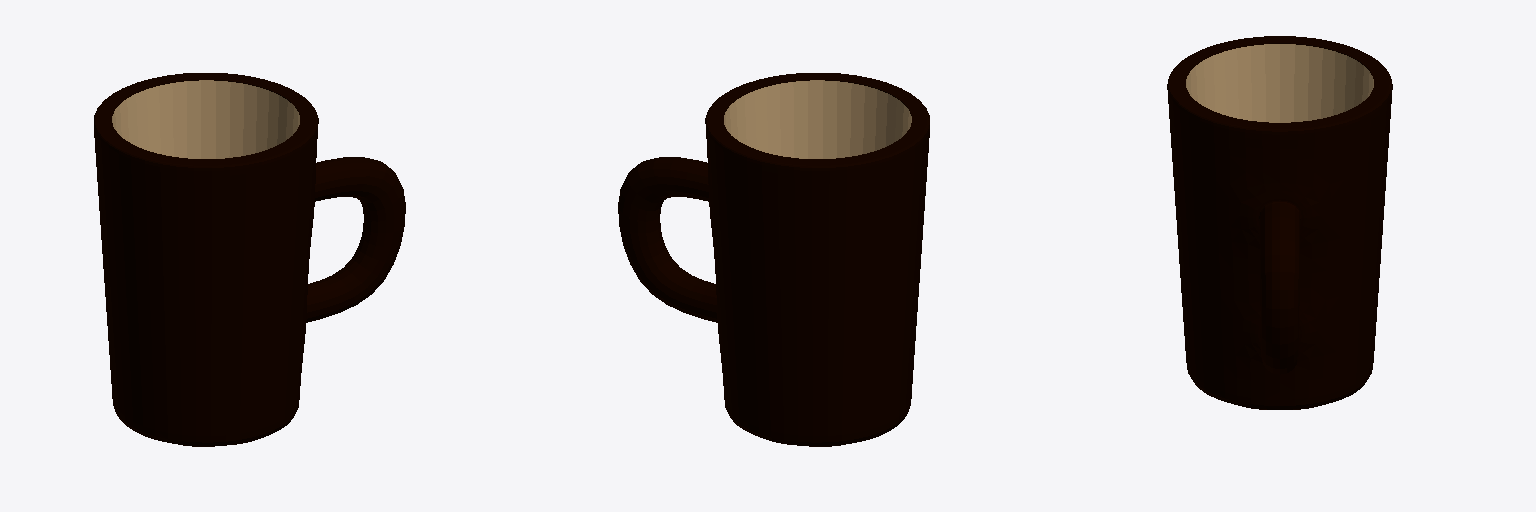
Rendered from caneca.obj.
The picture shows the model from 3 angles: view 1: azimuth 30°, elevation 25°; view 2: azimuth 150°, elevation 25°; view 3: azimuth 270°, elevation 25°; orthographic projection.
Visible parts, largest first — view 1: Cilindro; view 2: Cilindro; view 3: Cilindro.
Part boxes in pixels (x1,y1,x2,y2): Cilindro: (94, 73, 405, 446); Cilindro: (618, 73, 929, 446); Cilindro: (1167, 36, 1392, 409).
Size of the model in its own units: 3.1 by 2.99 by 2.05.